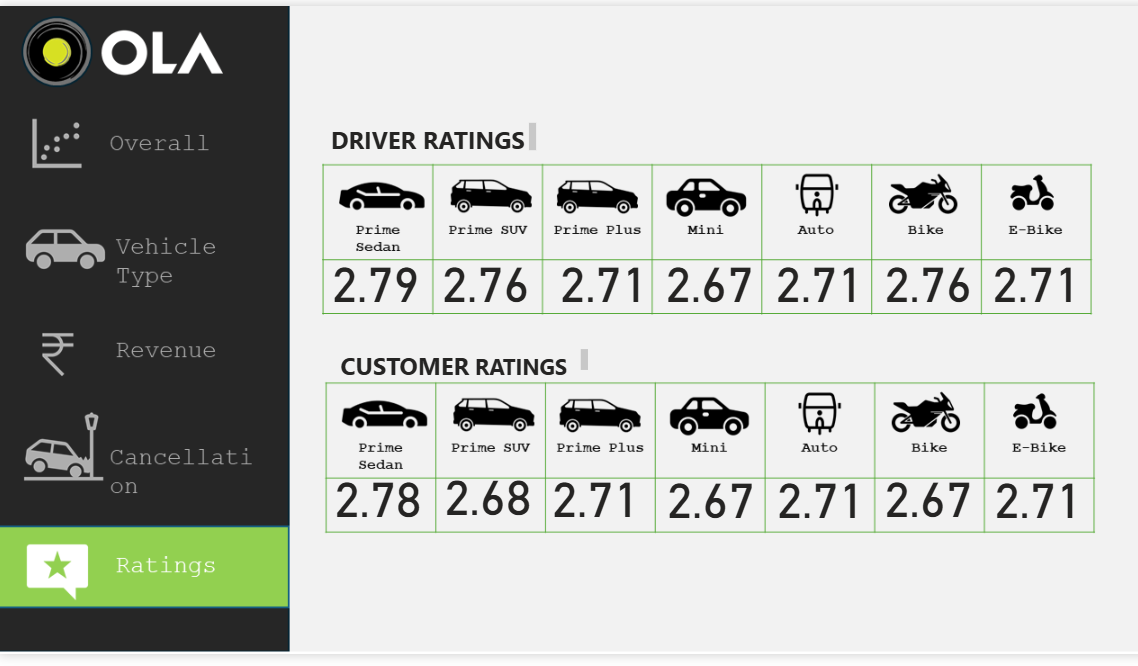

The page's visual inventory and layout, read from the dashboard file:
{"tool":"powerbi","page":{"name":"Ratings","canvas":[1280,720],"ordinal":3},"visuals":[{"type":"actionButton","box":[0,229.2,325.7,90.5],"z":0},{"type":"actionButton","box":[0,341.4,325.7,88.1],"z":1000},{"type":"actionButton","box":[0,445.2,325.7,108.6],"z":2000},{"type":"actionButton","box":[0,580.3,325.7,90.5],"z":3000},{"type":"actionButton","box":[0,102.5,326.2,88.8],"z":4000},{"type":"card","fields":{"Values":["Avg(ola final.Driver Rating)"]},"box":[358.1,284,122.1,57.6],"z":5000},{"type":"card","fields":{"Values":["Avg(ola final.Driver Rating)"]},"box":[480.3,284,122.1,57.6],"z":5001},{"type":"card","fields":{"Values":["Avg(ola final.Driver Rating)"]},"box":[616.1,284,112.5,57.6],"z":5002},{"type":"card","fields":{"Values":["Avg(ola final.Driver Rating)"]},"box":[728.6,284,122.1,57.6],"z":5003},{"type":"card","fields":{"Values":["Avg(ola final.Driver Rating)"]},"box":[850.8,284,122.1,57.6],"z":5004},{"type":"card","fields":{"Values":["Avg(ola final.Driver Rating)"]},"box":[972.9,284,122.1,57.6],"z":5005},{"type":"card","fields":{"Values":["Avg(ola final.Driver Rating)"]},"box":[1095,284,118,57.6],"z":5006},{"type":"textbox","box":[360.9,124.9,241.5,42.5],"z":5007},{"type":"textbox","box":[360.9,376,299.1,38.4],"z":5008},{"type":"card","fields":{"Values":["Avg(ola final.Customer Rating)"]},"box":[360.9,524.2,122.1,57.6],"z":5009},{"type":"card","fields":{"Values":["Avg(ola final.Driver Rating)"]},"box":[483,522.8,122.1,57.6],"z":5010},{"type":"card","fields":{"Values":["Avg(ola final.Driver Rating)"]},"box":[602.4,524.2,122.1,57.6],"z":5011},{"type":"card","fields":{"Values":["Avg(ola final.Driver Rating)"]},"box":[730,525.6,122.1,57.6],"z":5012},{"type":"card","fields":{"Values":["Avg(ola final.Driver Rating)"]},"box":[852.1,525.6,122.1,57.6],"z":5013},{"type":"card","fields":{"Values":["Avg(ola final.Driver Rating)"]},"box":[972.9,524.2,122.1,57.6],"z":5014},{"type":"card","fields":{"Values":["Avg(ola final.Driver Rating)"]},"box":[1095,525.6,122.1,57.6],"z":5015}]}

Visuals, with their boxes on the page's 1280x720 design canvas (x1, y1, x2, y2). These are canvas units, not pixel positions in the 1138x666 screenshot, which may show the page scaled, cropped or inside an application window:
actionButton: left=0, top=229, right=326, bottom=320
actionButton: left=0, top=341, right=326, bottom=430
actionButton: left=0, top=445, right=326, bottom=554
actionButton: left=0, top=580, right=326, bottom=671
actionButton: left=0, top=102, right=326, bottom=191
card - Avg(ola final.Driver Rating): left=358, top=284, right=480, bottom=342
card - Avg(ola final.Driver Rating): left=480, top=284, right=602, bottom=342
card - Avg(ola final.Driver Rating): left=616, top=284, right=729, bottom=342
card - Avg(ola final.Driver Rating): left=729, top=284, right=851, bottom=342
card - Avg(ola final.Driver Rating): left=851, top=284, right=973, bottom=342
card - Avg(ola final.Driver Rating): left=973, top=284, right=1095, bottom=342
card - Avg(ola final.Driver Rating): left=1095, top=284, right=1213, bottom=342
textbox: left=361, top=125, right=602, bottom=167
textbox: left=361, top=376, right=660, bottom=414
card - Avg(ola final.Customer Rating): left=361, top=524, right=483, bottom=582
card - Avg(ola final.Driver Rating): left=483, top=523, right=605, bottom=580
card - Avg(ola final.Driver Rating): left=602, top=524, right=724, bottom=582
card - Avg(ola final.Driver Rating): left=730, top=526, right=852, bottom=583
card - Avg(ola final.Driver Rating): left=852, top=526, right=974, bottom=583
card - Avg(ola final.Driver Rating): left=973, top=524, right=1095, bottom=582
card - Avg(ola final.Driver Rating): left=1095, top=526, right=1217, bottom=583
